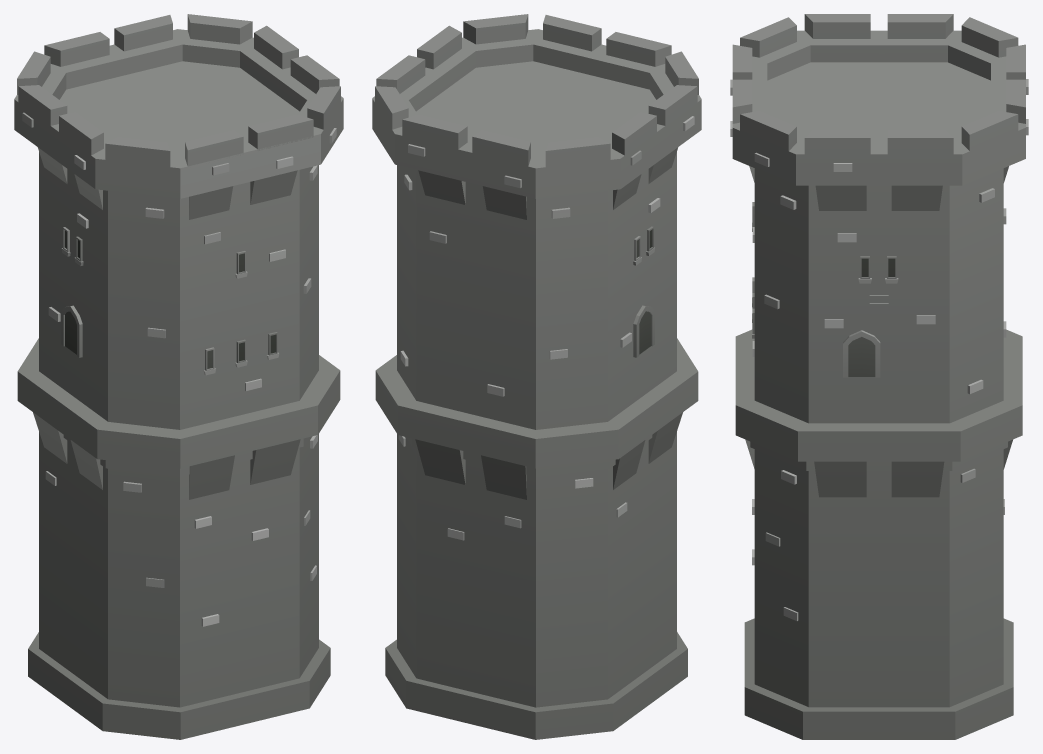
3 views of the same model, side by side, from view 1: azimuth 30°, elevation 25°; view 2: azimuth 150°, elevation 25°; view 3: azimuth 270°, elevation 25° (orthographic). The views are drawn at different scales.
Parts seen in each view (by area): view 1: Tower2_0; view 2: Tower2_0; view 3: Tower2_0.
Part boxes in pixels (left/top/right/bottom): Tower2_0: left=14, top=14, right=343, bottom=739; Tower2_0: left=372, top=14, right=701, bottom=739; Tower2_0: left=730, top=14, right=1028, bottom=739.
Bounding box in the file's own units: 15.98 × 35.9 × 15.99.
Materials: 1 (1 with a texture image).
